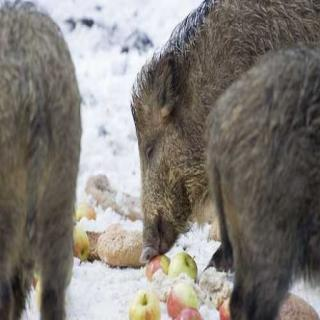Pig: (114, 0, 320, 320), (209, 41, 320, 306), (0, 0, 92, 316)
